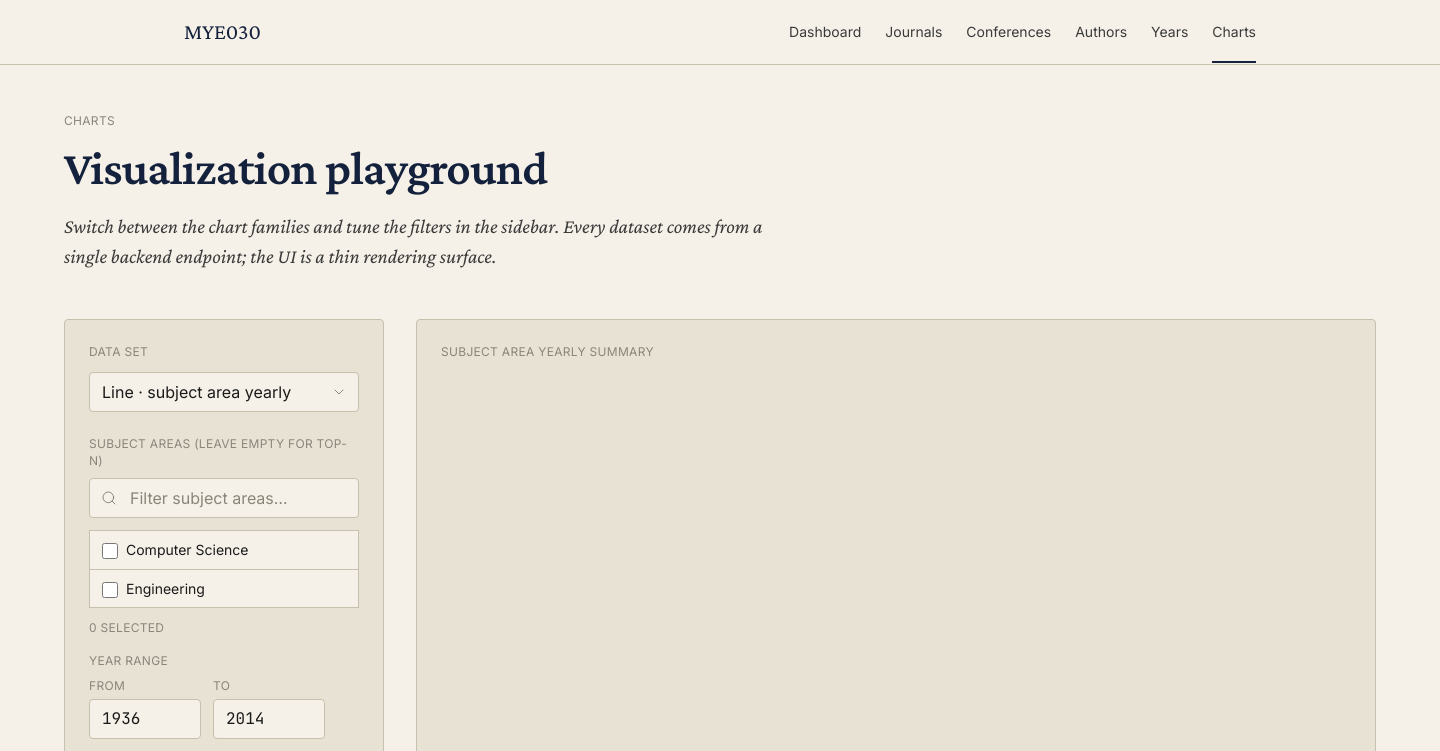
Test: /charts playground › switches to the journal metrics scatter chart
The image size is (1440, 751).
Step 1. Select "Scatter · journal metrics" in the dropdown named "chart type" → point(224, 392), box 89,372 -> 359,412
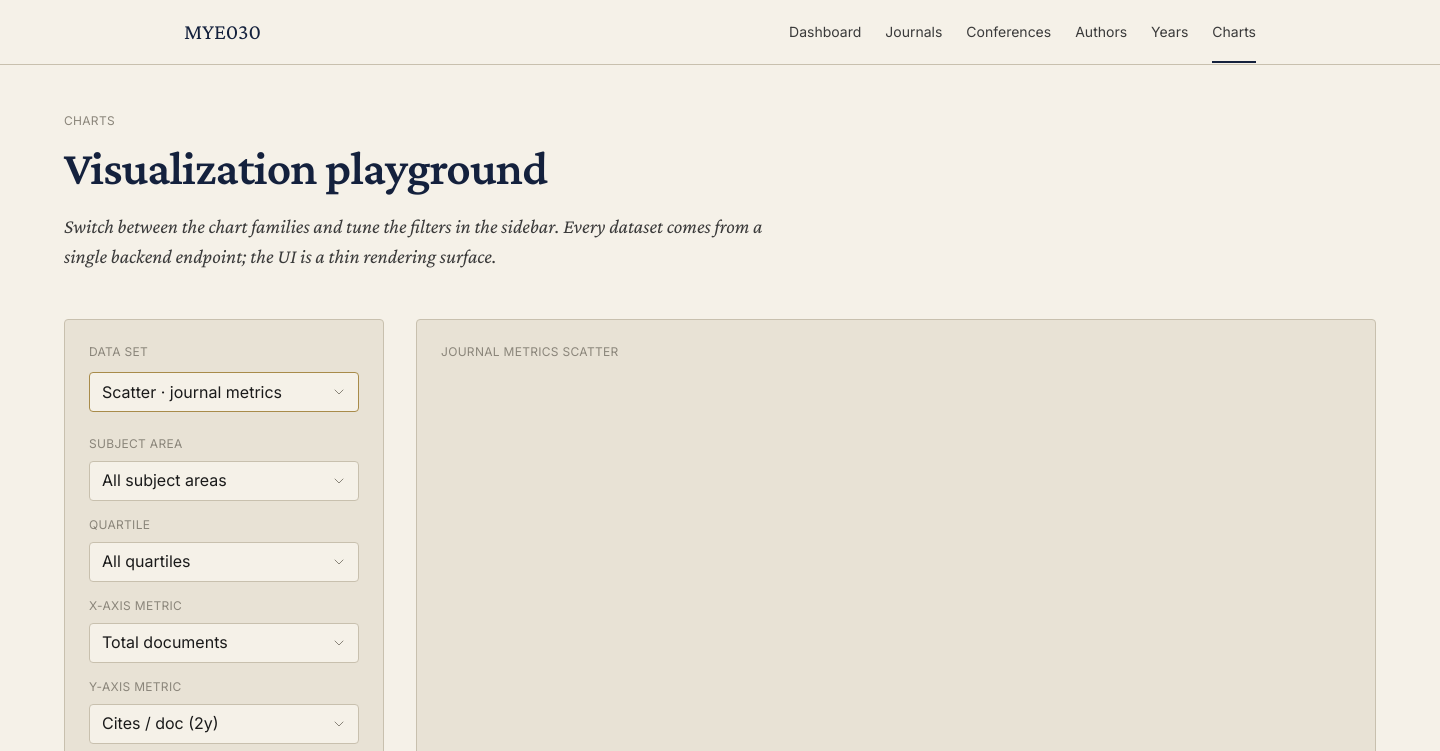
Check: the text "Journal metrics scatter" is shown, box 441,344 -> 619,360
